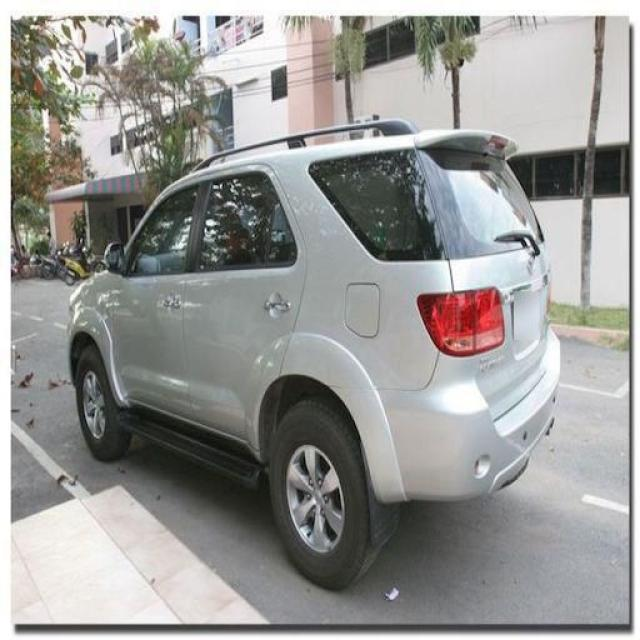back_bumper: (332, 325, 563, 503)
back_glass: (310, 148, 544, 264)
back_left_door: (185, 162, 307, 450)
back_left_light: (417, 288, 507, 358)
front_left_door: (114, 174, 208, 419)
left_mirror: (104, 243, 126, 274)
trunk: (449, 244, 552, 421)
